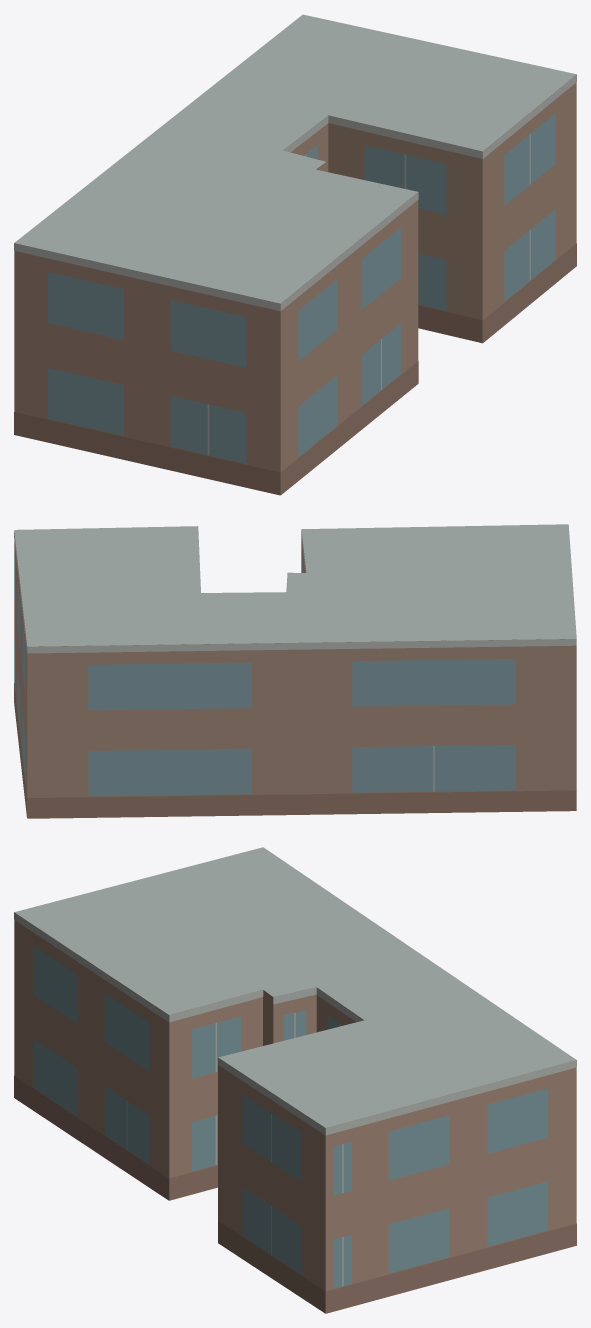
Rendered from survey-upis-32763654.glb.
3 views of the same model, one above another, from view 1: azimuth 30°, elevation 25°; view 2: azimuth 150°, elevation 25°; view 3: azimuth 270°, elevation 25° (orthographic). The views are drawn at different scales.
Parts seen in each view (by area): view 1: survey-upis-32763654.tmp; view 2: survey-upis-32763654.tmp; view 3: survey-upis-32763654.tmp.
Boxes of the visible parts, <box> form: survey-upis-32763654.tmp: <box>14,14,576,495</box>; survey-upis-32763654.tmp: <box>14,524,576,818</box>; survey-upis-32763654.tmp: <box>14,847,576,1313</box>.
Size of the model in its own units: 19.81 by 6.1 by 16.77.
